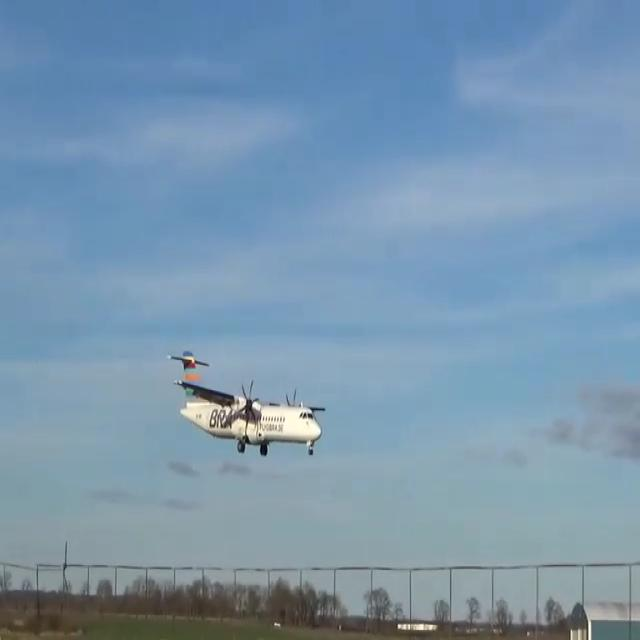AirPlane: (162, 331, 356, 482)
